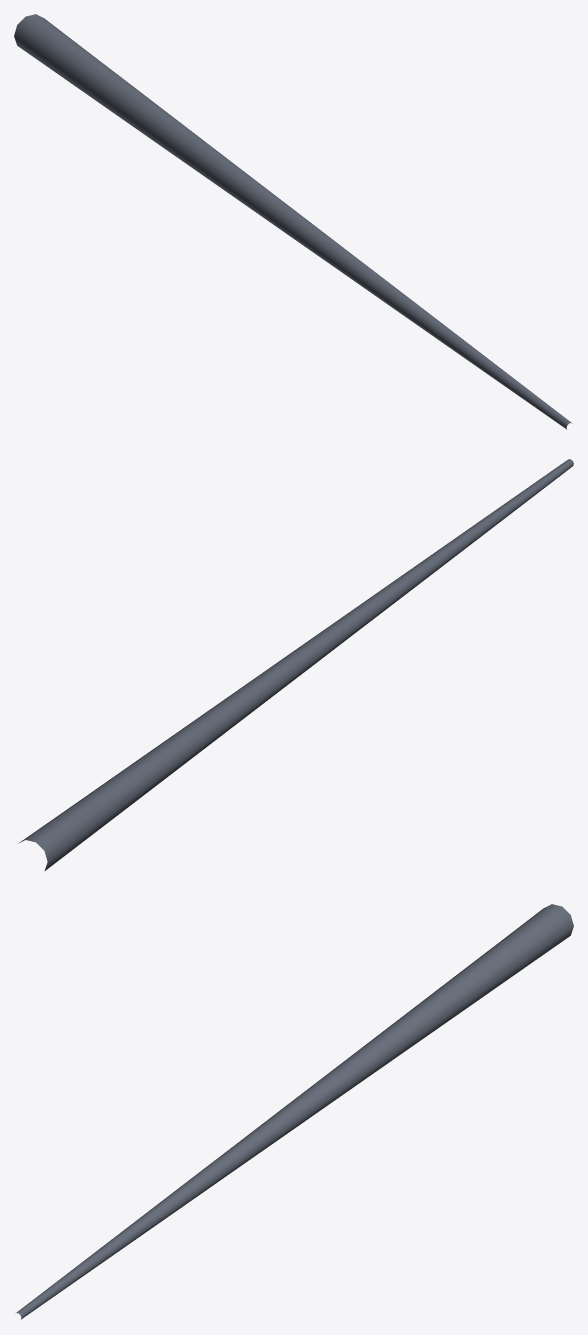
The model's file is fishing_rod.glb.
3 views of the same model, one above another, from view 1: azimuth 30°, elevation 25°; view 2: azimuth 150°, elevation 25°; view 3: azimuth 330°, elevation 25° (orthographic).
Parts seen in each view (by area): view 1: CarbonRodBlank; view 2: CarbonRodBlank; view 3: CarbonRodBlank.
Part boxes in pixels (x1,y1,x2,y2): CarbonRodBlank: [14, 14, 572, 429]; CarbonRodBlank: [18, 459, 573, 871]; CarbonRodBlank: [15, 904, 573, 1319].
Bounding box in the file's own units: 0.036 × 0.0342 × 1.
